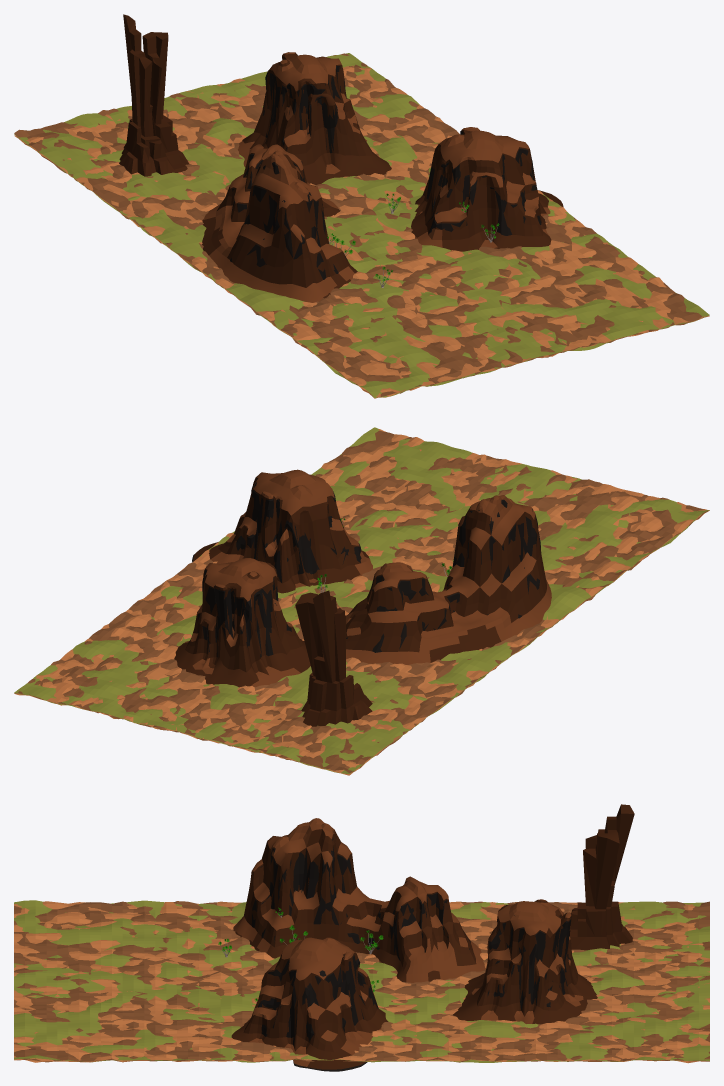
File: Kanyon.fbx
3 views of the same model, one above another, from view 1: azimuth 30°, elevation 25°; view 2: azimuth 150°, elevation 25°; view 3: azimuth 270°, elevation 25° (orthographic). The views are drawn at different scales.
Visible parts, largest first — view 1: Zemin00, Zemin01, Zemin02, Plane003, Plane005, Plane004, Group002, Plane002, Group005, Group006, Plane008, Plane006; view 2: Zemin00, Zemin01, Zemin02, Plane005, Group002, Plane004, Plane003, Plane002, Group005, Group006, Plane008, Plane006; view 3: Zemin00, Zemin01, Zemin02, Plane005, Group002, Plane004, Plane003, Plane002, Group005, Group006, Plane008, Plane006.
Boxes of the visible parts, x1,y1,x2,y2 form: Zemin00: (14,53,709,397); Zemin01: (14,53,709,398); Zemin02: (14,65,708,398); Plane003: (411,130,563,251); Plane005: (202,148,357,298); Plane004: (242,52,391,184); Group002: (202,144,354,302); Plane002: (119,14,189,176); Group005: (238,52,379,173); Group006: (414,127,550,247); Plane008: (230,154,347,282); Plane006: (426,130,541,235); Zemin00: (14,427,709,773); Zemin01: (14,430,707,772); Zemin02: (14,429,709,775); Plane005: (346,506,546,662); Group002: (346,495,551,664); Plane004: (174,562,310,687); Plane003: (193,477,369,593); Plane002: (295,590,372,726); Group005: (184,558,300,687); Group006: (210,469,372,587); Plane008: (346,499,541,652); Plane006: (192,482,361,582); Zemin00: (14,900,709,1062); Zemin01: (14,901,709,1062); Zemin02: (14,901,709,1063); Plane005: (235,829,476,982); Group002: (233,818,485,982); Plane004: (453,900,597,1024); Plane003: (231,952,388,1069); Plane002: (569,804,634,950); Group005: (472,899,583,1023); Group006: (249,937,381,1066); Plane008: (251,831,470,960); Plane006: (258,954,378,1071).
Size of the model in its own units: 145 by 56.46 by 261.
